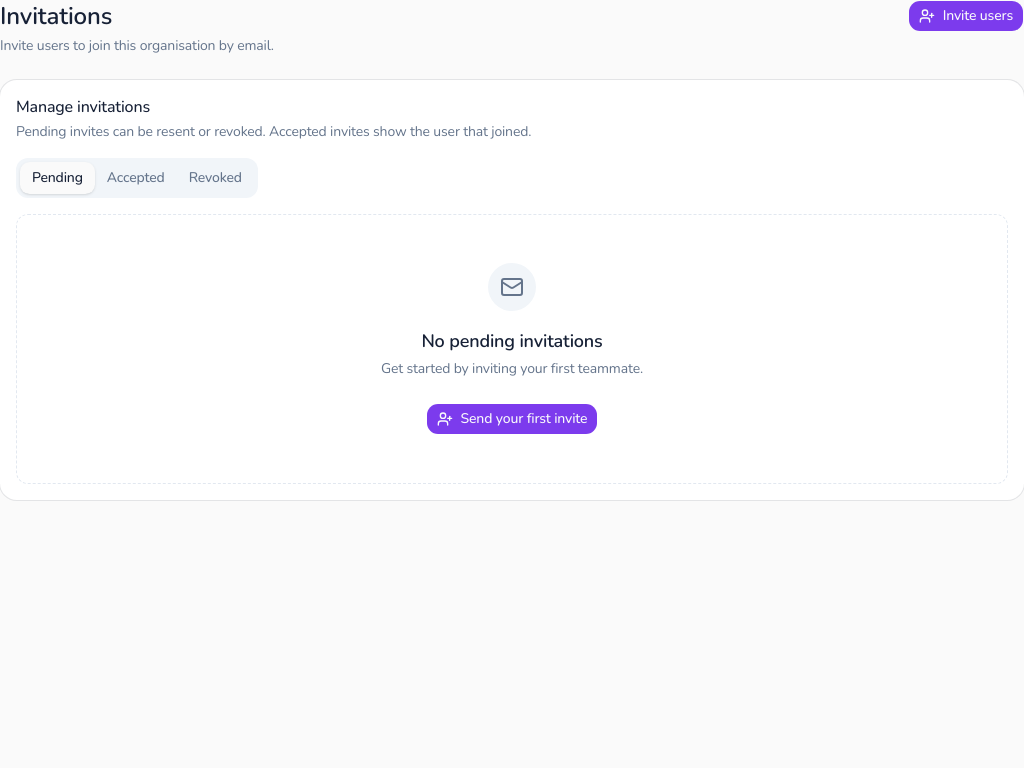
OrgInvitesClient › opens the invite modal when clicking 'Invite users'
This screenshot has width=1024, height=768.
Check: the heading "No pending invitations" is shown, box [421,327,603,355]
Click the button "Invite users": (966, 16) [908,0,1023,32]
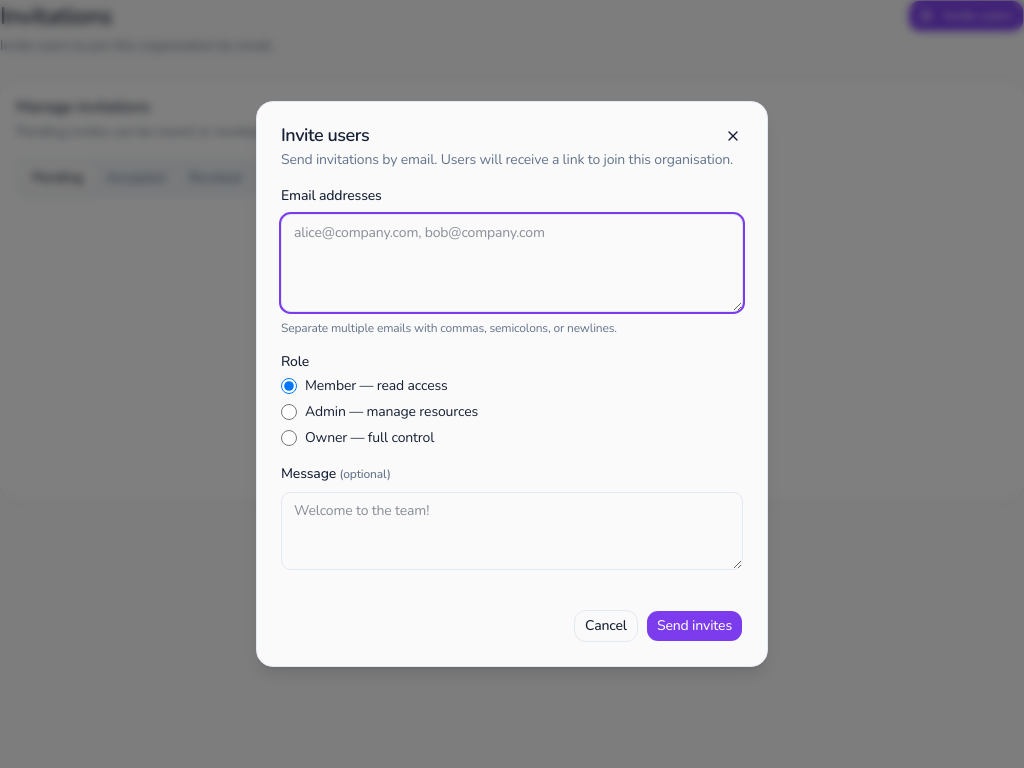
Check: the dialog is shown, box [256,101,768,667]
